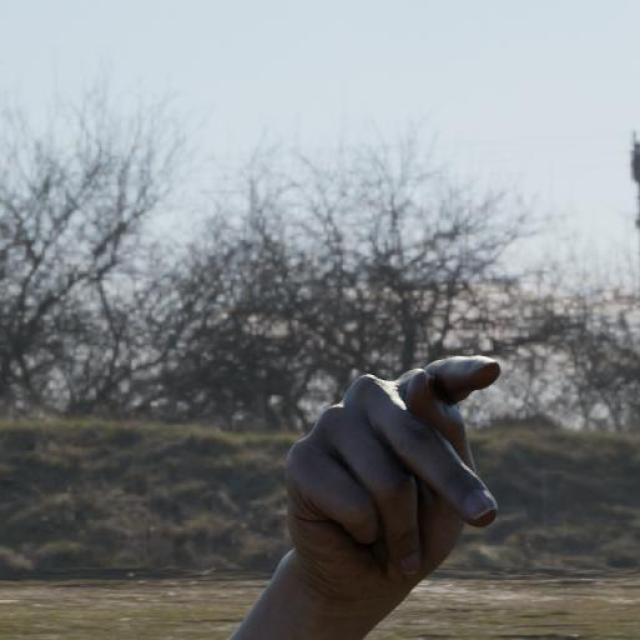P: (280, 352, 502, 592)
